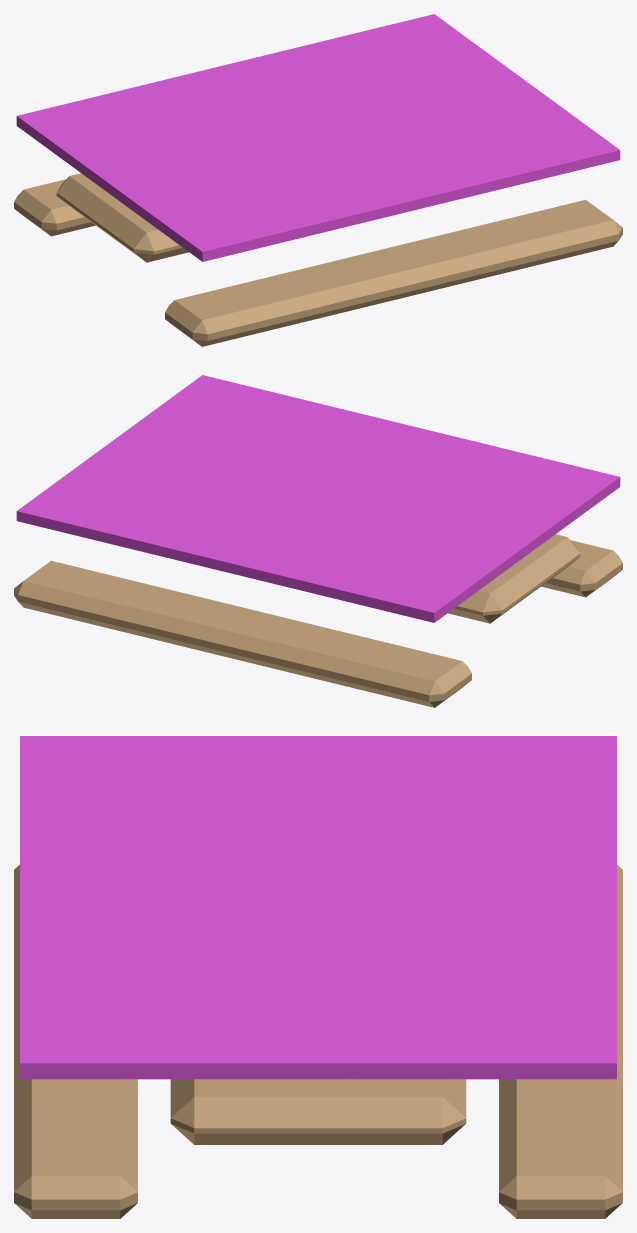
3 views of the same model, one above another, from view 1: azimuth 30°, elevation 25°; view 2: azimuth 150°, elevation 25°; view 3: azimuth 270°, elevation 25° (orthographic). The views are drawn at different scales.
Visible parts, largest first — view 1: NAV_MASK_PICNIC_TABLE, LOD2_PICNIC_TABLE_Bench, LOD2_PICNIC_TABLE_Top, LOD2_PICNIC_TABLE_Bench.001; view 2: NAV_MASK_PICNIC_TABLE, LOD2_PICNIC_TABLE_Bench.001, LOD2_PICNIC_TABLE_Top, LOD2_PICNIC_TABLE_Bench; view 3: NAV_MASK_PICNIC_TABLE, LOD2_PICNIC_TABLE_Top, LOD2_PICNIC_TABLE_Bench, LOD2_PICNIC_TABLE_Bench.001.
Boxes of the visible parts, left/top/right/bottom form: NAV_MASK_PICNIC_TABLE: left=16, top=14, right=620, bottom=261; LOD2_PICNIC_TABLE_Bench: left=165, top=199, right=622, bottom=346; LOD2_PICNIC_TABLE_Top: left=56, top=173, right=188, bottom=262; LOD2_PICNIC_TABLE_Bench.001: left=14, top=179, right=95, bottom=236; NAV_MASK_PICNIC_TABLE: left=16, top=375, right=620, bottom=622; LOD2_PICNIC_TABLE_Bench.001: left=14, top=560, right=471, bottom=707; LOD2_PICNIC_TABLE_Top: left=448, top=534, right=580, bottom=623; LOD2_PICNIC_TABLE_Bench: left=541, top=540, right=622, bottom=597; NAV_MASK_PICNIC_TABLE: left=20, top=736, right=616, bottom=1079; LOD2_PICNIC_TABLE_Top: left=170, top=1079, right=466, bottom=1144; LOD2_PICNIC_TABLE_Bench: left=14, top=865, right=137, bottom=1218; LOD2_PICNIC_TABLE_Bench.001: left=499, top=865, right=622, bottom=1218.
Size of what is drawn, in the model's own units: 2.8 by 0.59 by 2.06.
